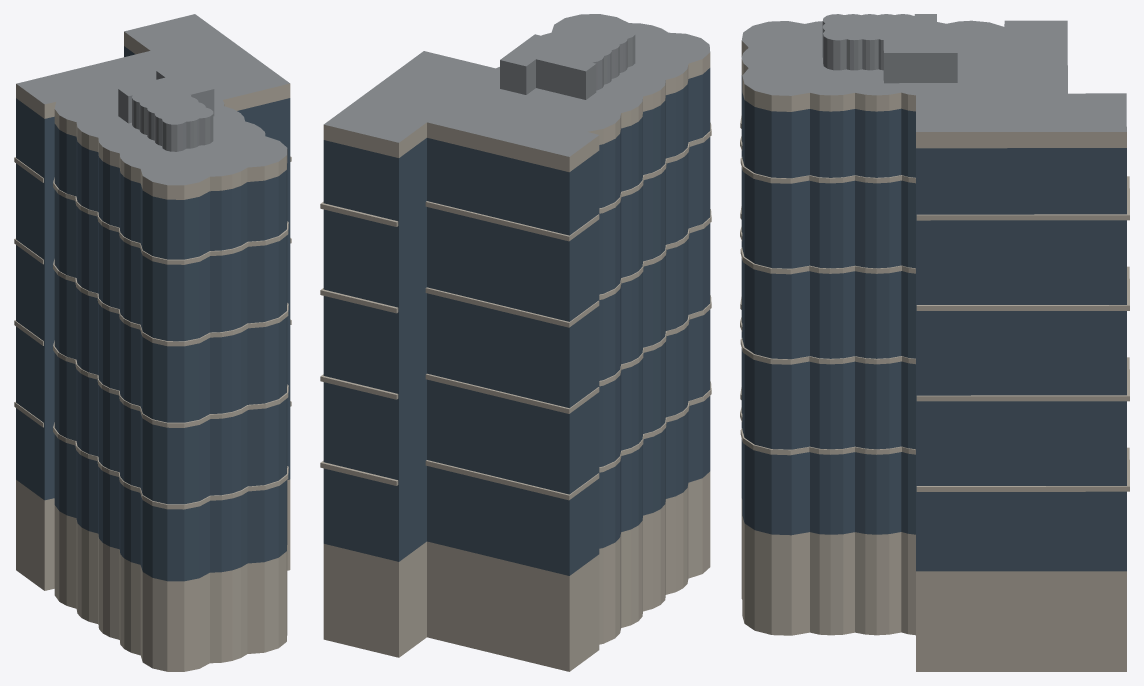
Rendered from bldg_w226288671.glb.
The picture shows the model from 3 angles, left to right: view 1: azimuth 30°, elevation 25°; view 2: azimuth 150°, elevation 25°; view 3: azimuth 270°, elevation 25°; orthographic projection. The views are drawn at different scales.
Visible parts, largest first — view 1: Bldg_W226288671; view 2: Bldg_W226288671; view 3: Bldg_W226288671.
Part boxes in pixels (<box>): Bldg_W226288671: <box>14,14,291,671</box>; Bldg_W226288671: <box>320,14,711,671</box>; Bldg_W226288671: <box>740,14,1129,671</box>.
Bounding box in the file's own units: 24.07 × 56.7 × 35.16.
